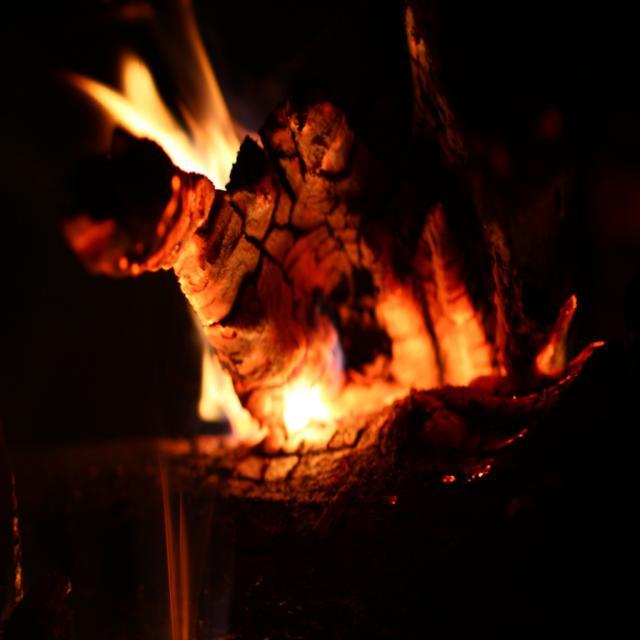Fire: (272, 372, 351, 445), (171, 117, 237, 181)
